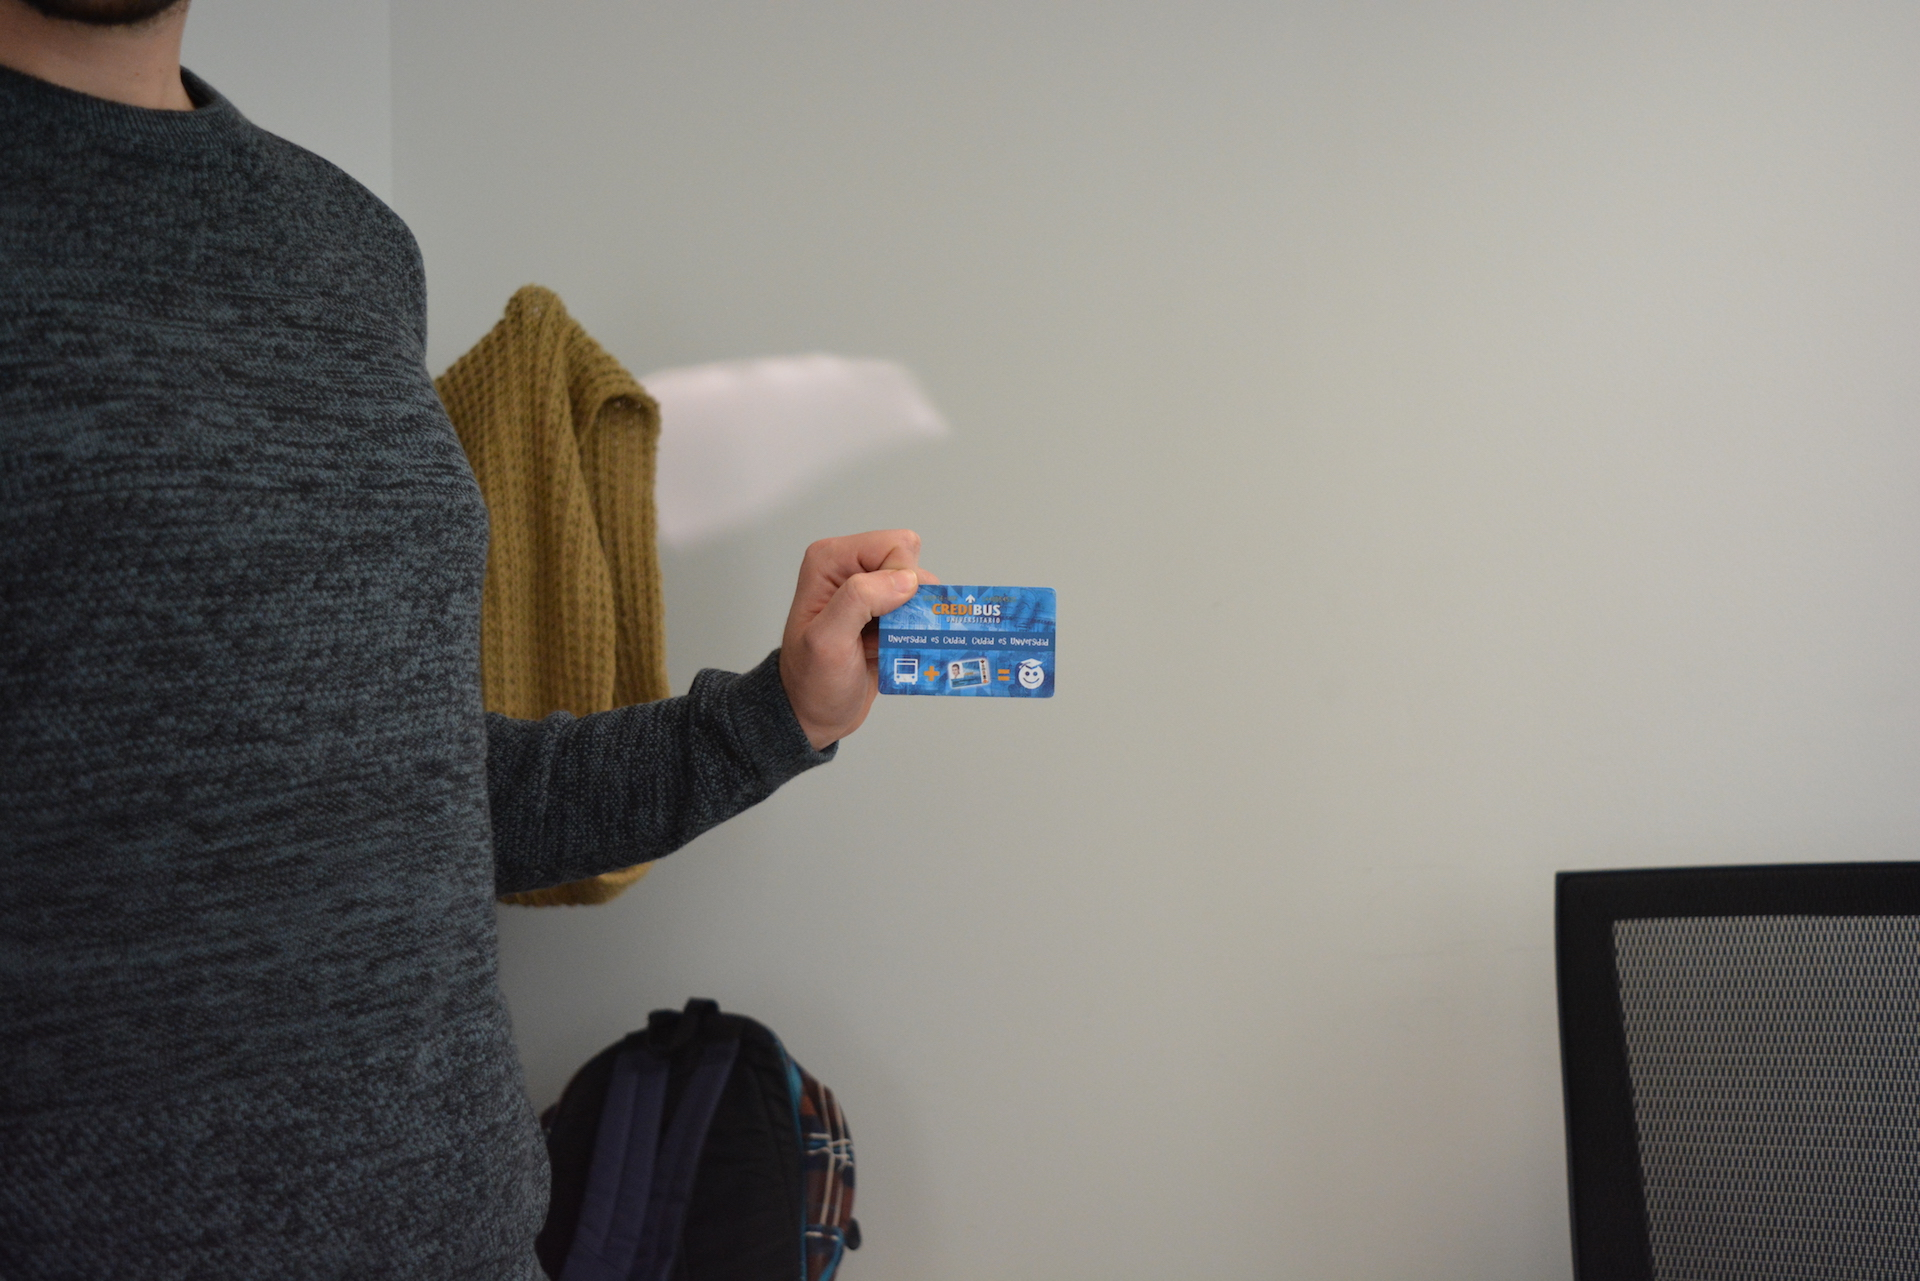tarjeta: (876, 583, 1057, 701)
